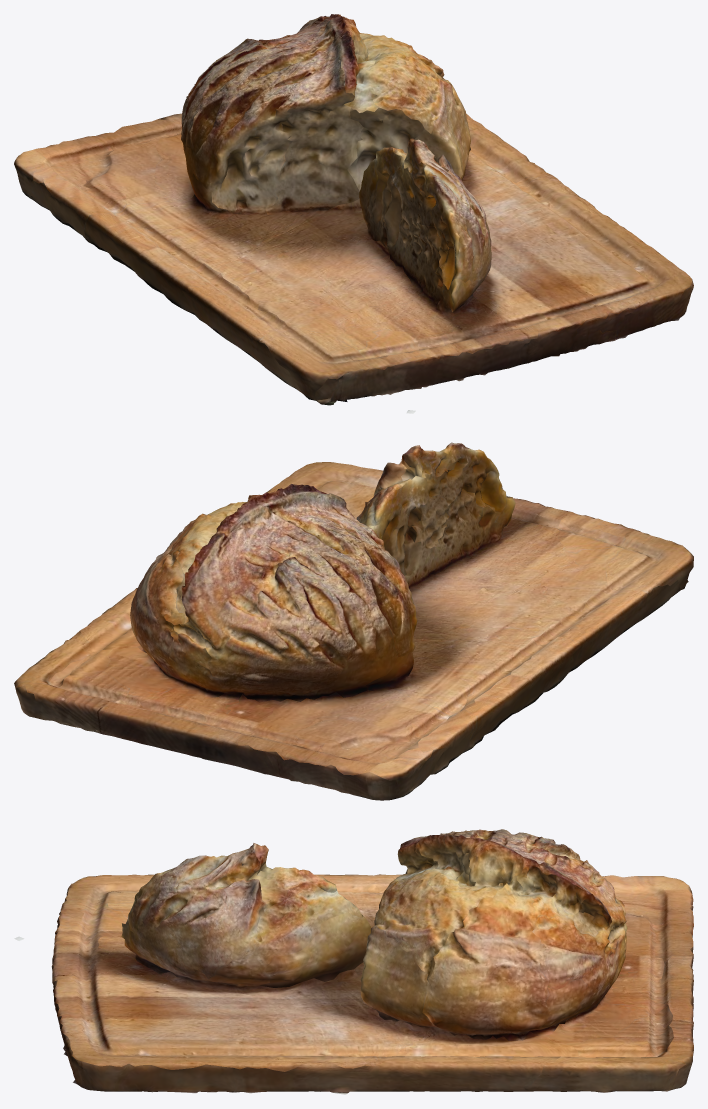
File: bread.glb
3 views of the same model, one above another, from view 1: azimuth 30°, elevation 25°; view 2: azimuth 150°, elevation 25°; view 3: azimuth 270°, elevation 25° (orthographic).
Visible parts, largest first — view 1: Object; view 2: Object; view 3: Object.
Boxes of the visible parts, <box> form: Object: <box>14,14,693,413</box>; Object: <box>14,442,693,800</box>; Object: <box>14,829,693,1094</box>.
Size of the model in its own units: 0.2821 by 0.1237 by 0.4215.
Materials: 1 (1 with a texture image).
